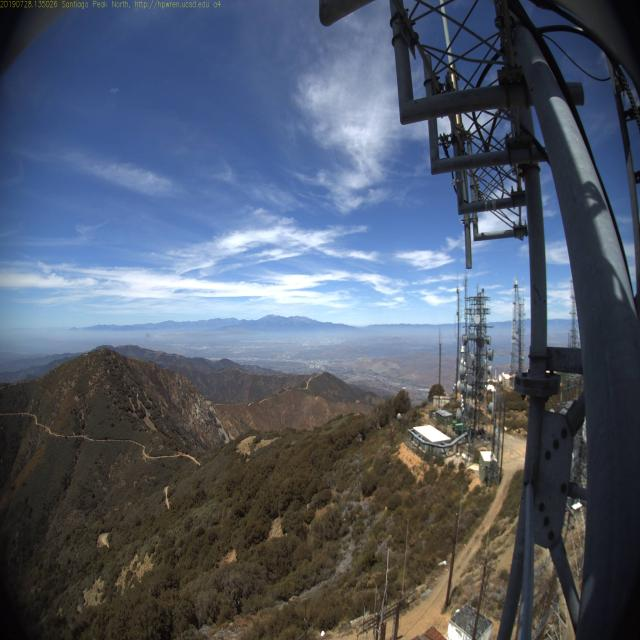smoke: (134, 322, 169, 354)
